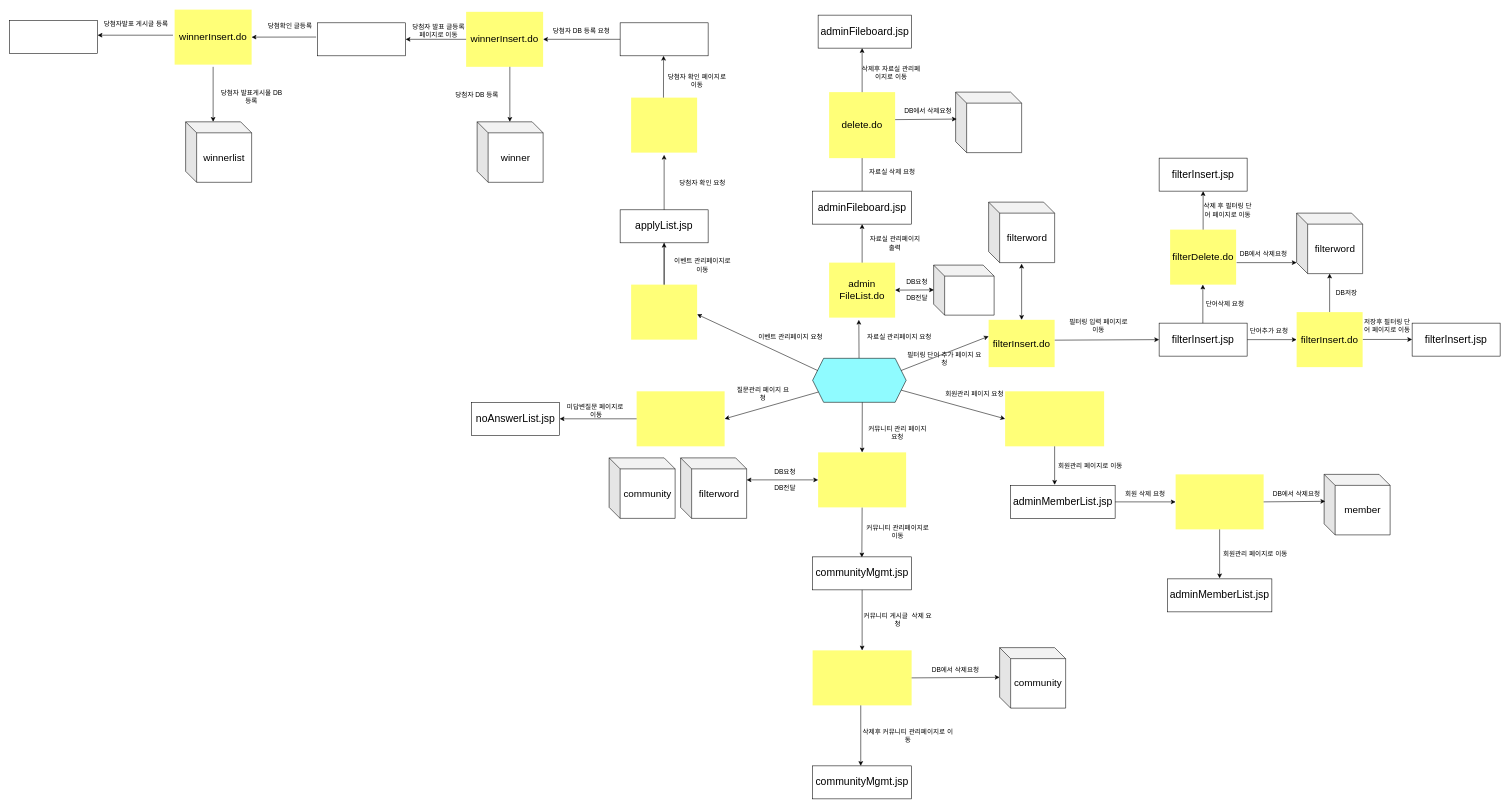
Image size: 1510x809. Some labels were removed from this diagram. The shapes that lost their labels are listed below. From the top down, each one's centre as x and y in pixels, then its label:
At point 53,37: "winnerList.jsp".
At point 361,39: "winnerInsert.jsp".
At point 664,39: "winners.jsp".
At point 664,124: "winners.do".
At point 988,122: "fileboard".
At point 963,290: "notice".
At point 664,311: "applyList.do".
At point 859,380: "AdminController .java".
At point 680,418: "questionList.do".
At point 1054,418: "adminMemberList.do".
At point 862,479: "communityMgmt.do".
At point 1219,501: "memberDelete.do".
At point 861,677: "communityDelete.do".
